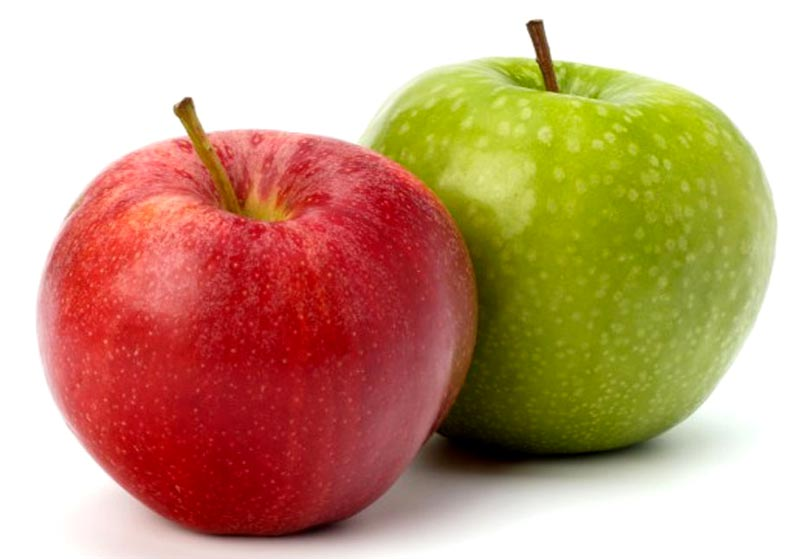apple: (31, 87, 481, 540), (351, 11, 776, 468)
